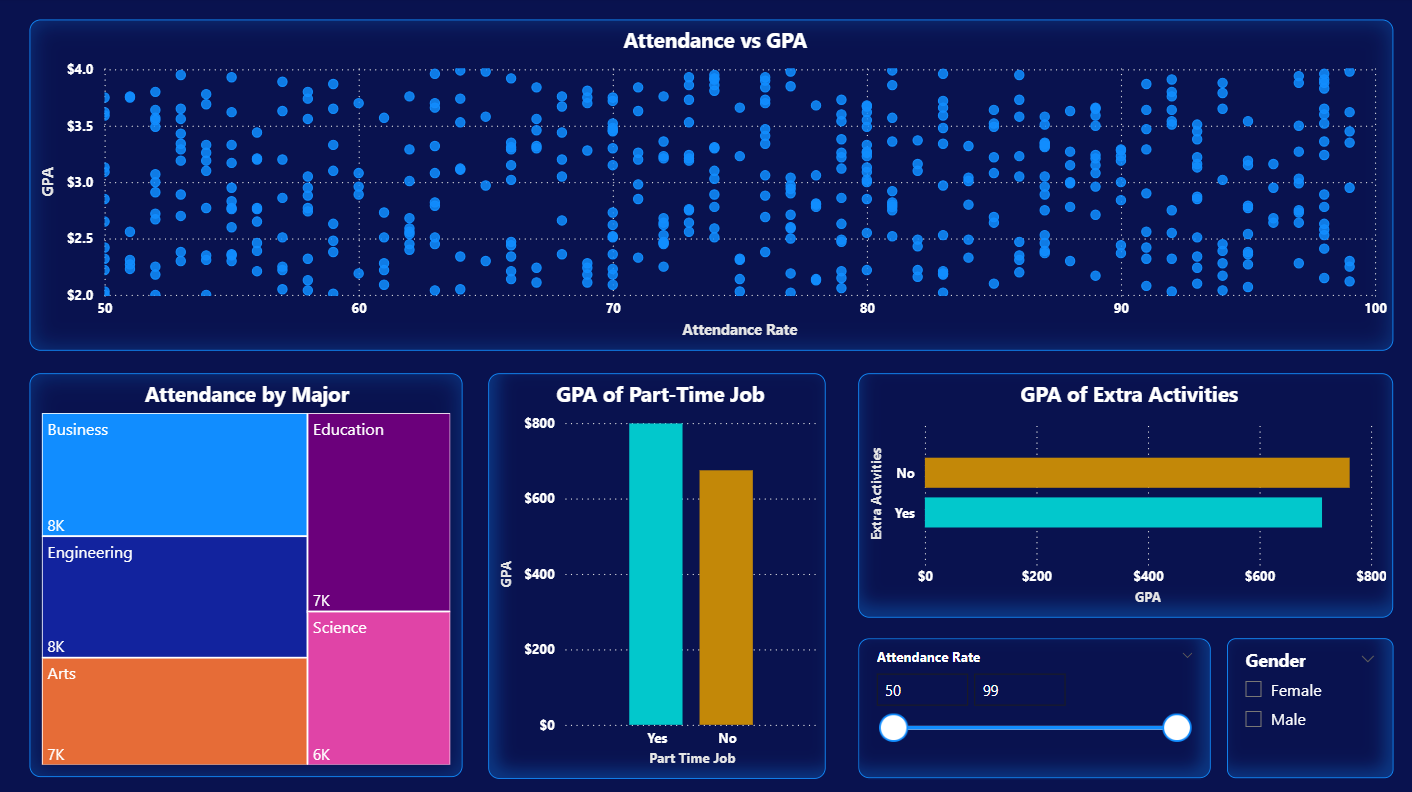

Layout of this report page (visuals, bound fields, positions):
{"tool":"powerbi","page":{"name":"Attendance & Engagement","canvas":[1280,720],"ordinal":2},"visuals":[{"type":"scatterChart","title":"Attendance vs GPA","fields":{"X":["student_performance_data.AttendanceRate"],"Y":["student_performance_data.GPA"]},"box":[28.8,20.6,1232.3,299.1],"z":0},{"type":"columnChart","title":"GPA of Part-Time Job","fields":{"Category":["student_performance_data.PartTimeJob"],"Y":["Sum(student_performance_data.GPA)"]},"box":[443.2,340.3,304.6,366.4],"z":1000},{"type":"barChart","title":"GPA of Extra Activities","fields":{"Category":["student_performance_data.ExtraCurricularActivities"],"Y":["Sum(student_performance_data.GPA)"]},"box":[778,340.3,483,220.9],"z":2000},{"type":"slicer","fields":{"Values":["student_performance_data.AttendanceRate"]},"box":[778,579.3,318.4,126.5],"z":3000},{"type":"treemap","title":"Attendance by Major","fields":{"Group":["student_performance_data.Major"],"Values":["Sum(student_performance_data.AttendanceRate)"]},"box":[28.8,340.3,391.1,365],"z":4000},{"type":"slicer","fields":{"Values":["student_performance_data.Gender"]},"box":[1111.1,579.3,150.2,126.5],"z":5000}]}

Visuals, with their boxes in screenshot pixels (x1, y1, x2, y2), scaled from the page's 1280x720 canvas onto the 1412x792 screenshot:
"Attendance vs GPA" scatterChart: box(32, 23, 1391, 352)
"GPA of Part-Time Job" columnChart: box(489, 374, 825, 777)
"GPA of Extra Activities" barChart: box(858, 374, 1391, 617)
slicer - student_performance_data.AttendanceRate: box(858, 637, 1209, 776)
"Attendance by Major" treemap: box(32, 374, 463, 776)
slicer - student_performance_data.Gender: box(1226, 637, 1391, 776)
